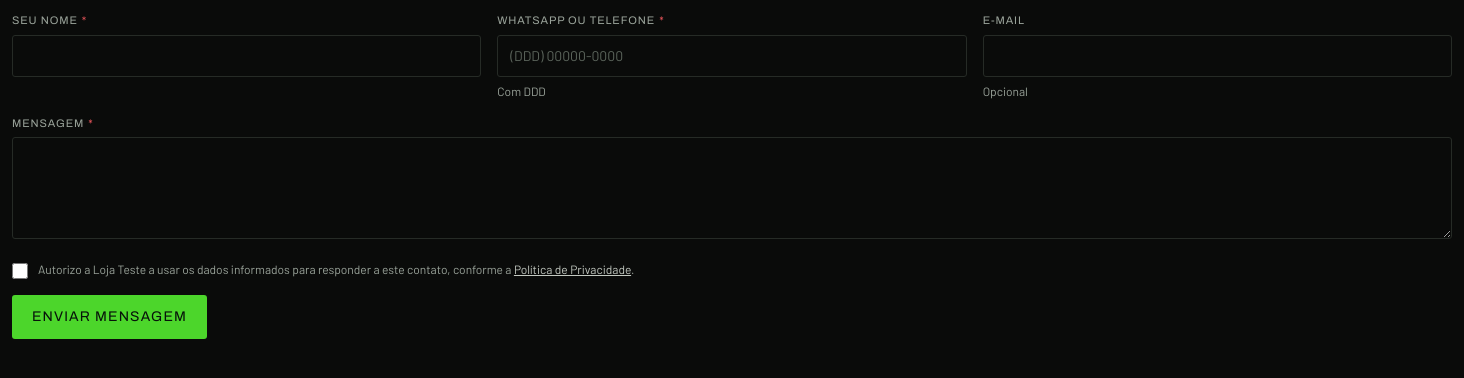
formulários de lead › ContactForm › sem marcar o consentimento, não envia (LGPD)
The width and height of the screenshot is (1464, 378).
Type "Maria Silva" into the field labelled "Seu nome*" at [247, 56], box [12,34,481,76]
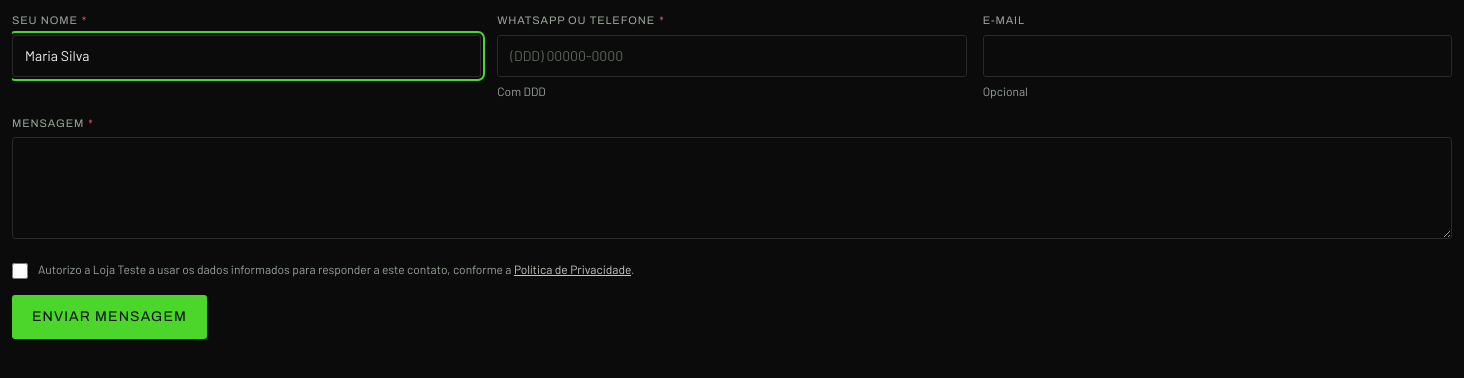
Type "49 99999-8888" into the field labelled "WhatsApp ou telefone*" at [732, 56], box [497,34,967,76]
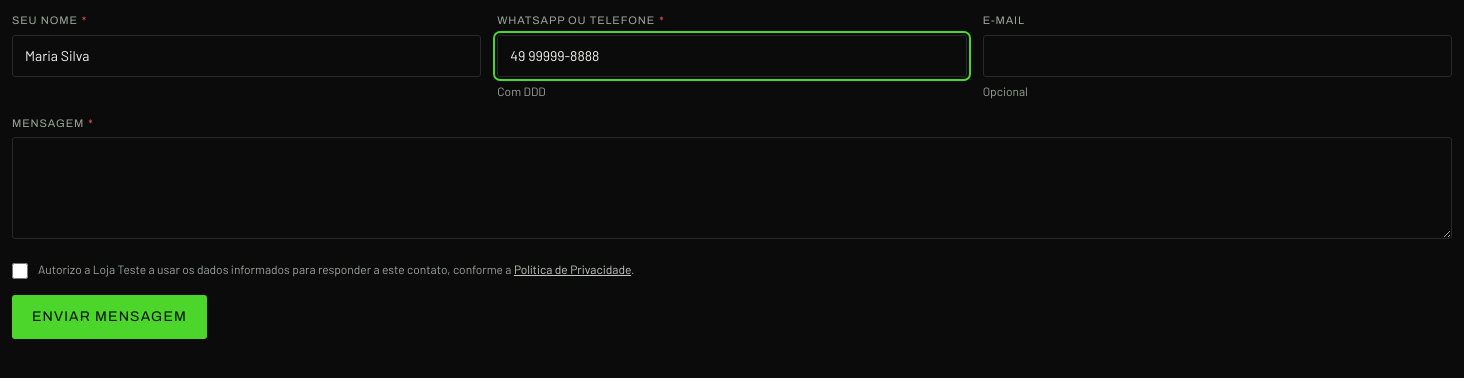
Type "Vocês aceitam troca?" into the text box labelled "Mensagem*" at [732, 188], box [12,137,1452,239]
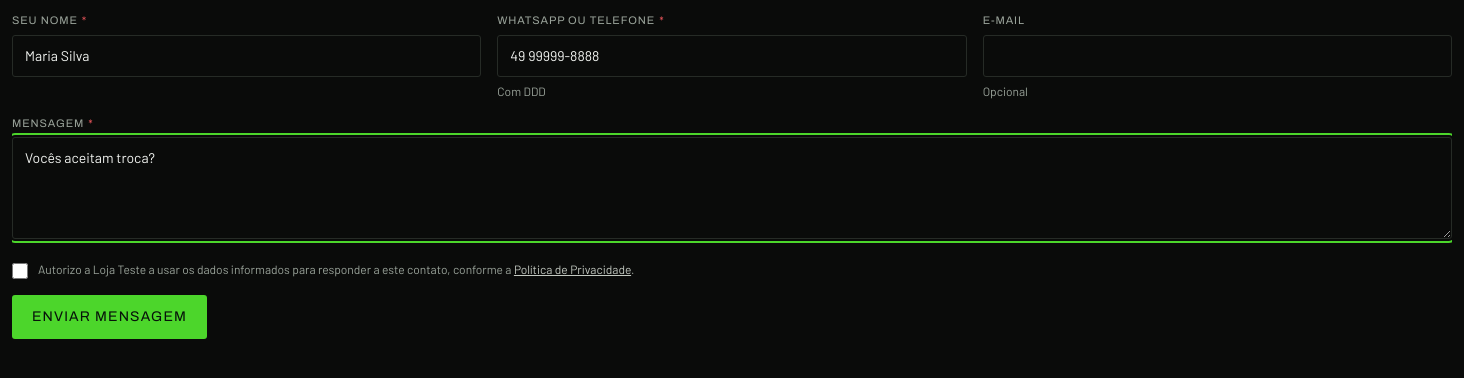
Click the button "Enviar mensagem" at [110, 317], box [12,295,207,339]
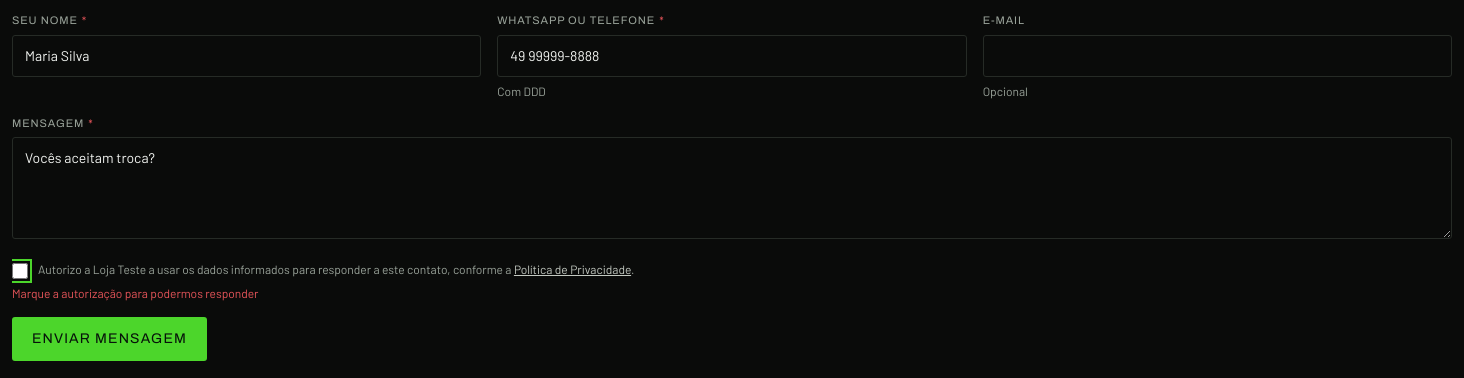
Expected: the text "Marque a autorização para podermos responder" is shown, [12,286,258,300]
